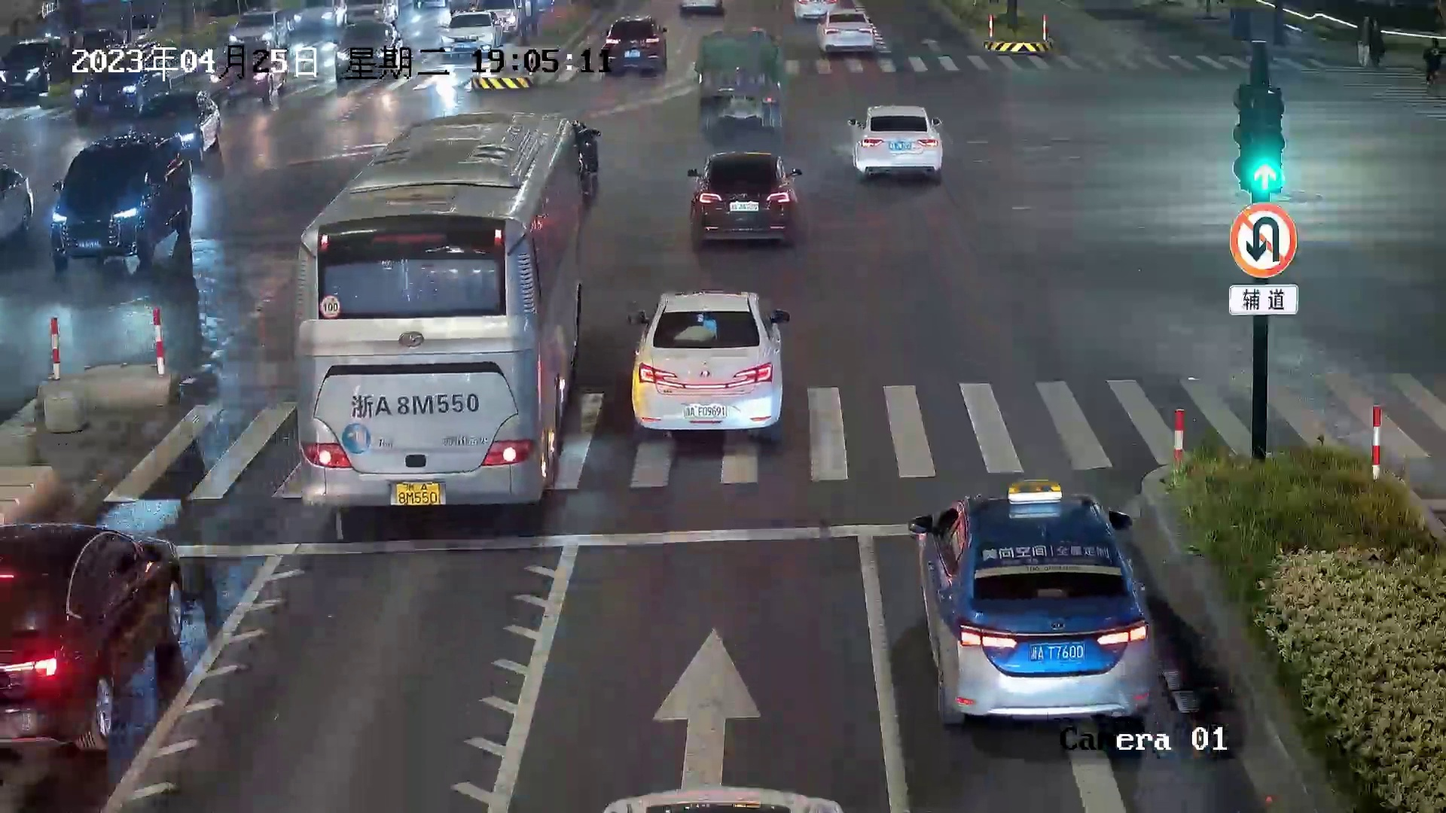vehicle: (282, 104, 592, 519), (908, 473, 1163, 730), (0, 513, 191, 771), (629, 271, 787, 436), (42, 132, 182, 274), (685, 147, 793, 234), (694, 26, 775, 126), (847, 98, 942, 181), (135, 87, 228, 157), (1, 33, 72, 102), (592, 17, 670, 69), (330, 22, 401, 78), (809, 8, 880, 60), (229, 10, 286, 51), (443, 14, 495, 51)
